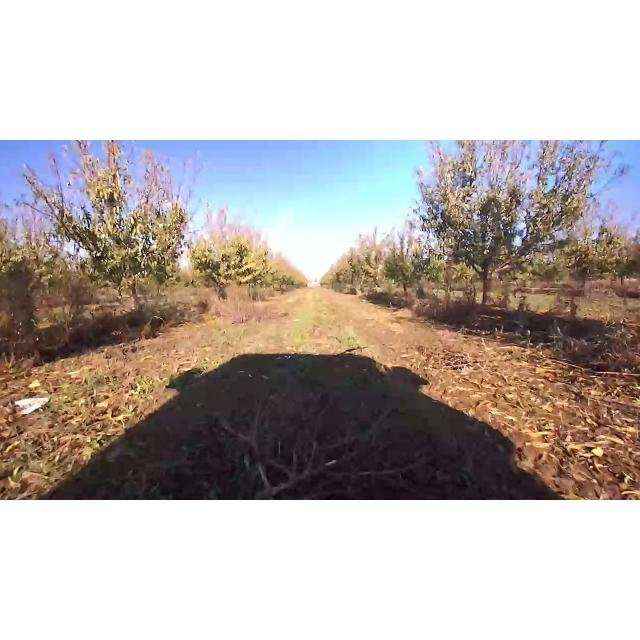direk: (408, 140, 614, 312), (22, 142, 216, 316), (182, 219, 274, 311), (382, 211, 434, 305)
